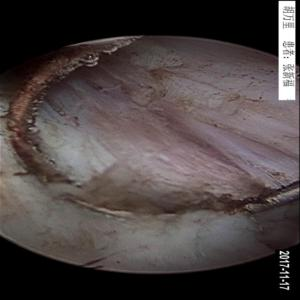film: (69, 78, 293, 185)
